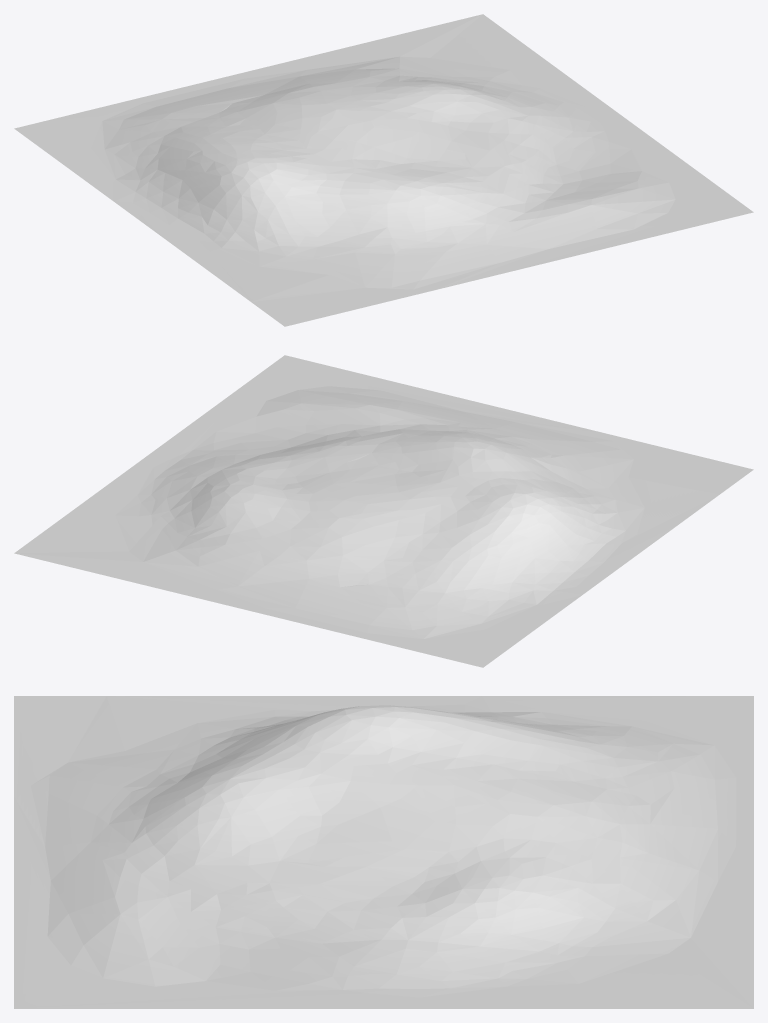
The model's file is Terrain_24.glb.
3 renders of one model, top to bottom at view 1: azimuth 30°, elevation 25°; view 2: azimuth 150°, elevation 25°; view 3: azimuth 270°, elevation 25°, orthographic. The views are drawn at different scales.
Parts seen in each view (by area): view 1: Terrain_24; view 2: Terrain_24; view 3: Terrain_24.
Part boxes in pixels (x1,y1,x2,y2): Terrain_24: [14, 14, 753, 326]; Terrain_24: [14, 355, 753, 667]; Terrain_24: [14, 696, 753, 1008].
Bounding box in the file's own units: 128 × 10.45 × 128.
1 material, 1 textured.
